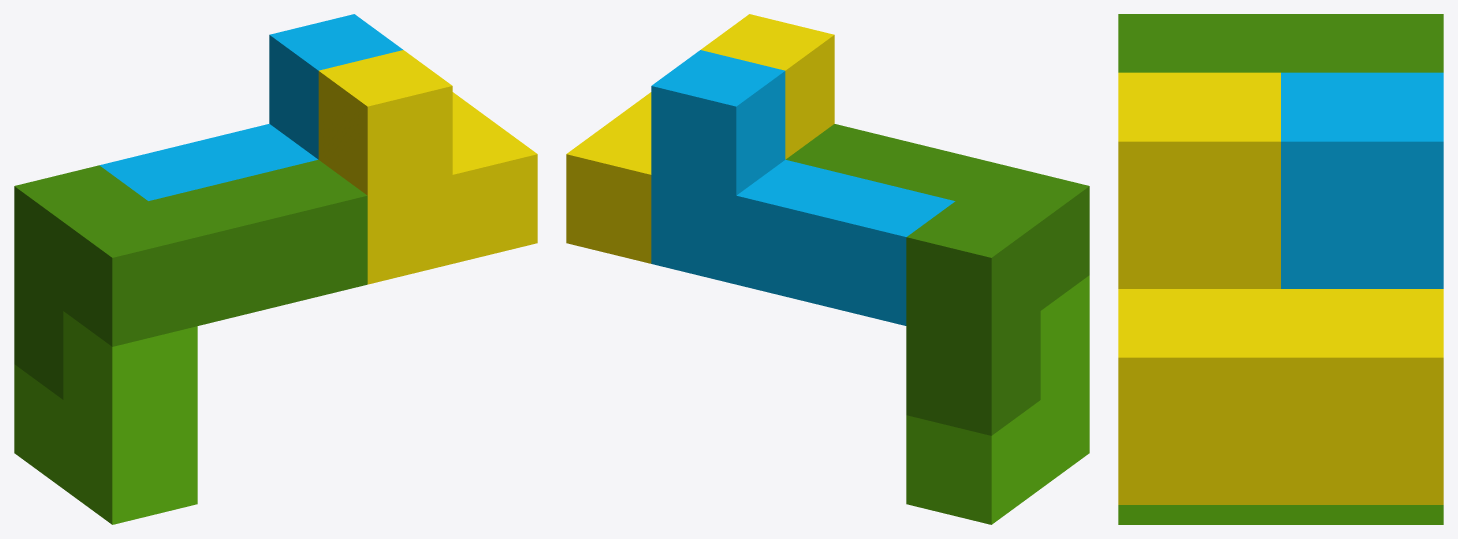
3 views of the same model, side by side, from view 1: azimuth 30°, elevation 25°; view 2: azimuth 150°, elevation 25°; view 3: azimuth 270°, elevation 25° (orthographic). The views are drawn at different scales.
Visible parts, largest first — view 1: mergedBlocks(Clone); view 2: mergedBlocks(Clone); view 3: mergedBlocks(Clone).
Part boxes in pixels (x1=…): mergedBlocks(Clone): x1=14, y1=14, x2=537, y2=524; mergedBlocks(Clone): x1=566, y1=14, x2=1089, y2=524; mergedBlocks(Clone): x1=1118, y1=14, x2=1443, y2=524.
Size of the model in its own units: 5 by 4 by 2.
4 materials, 4 textured.
